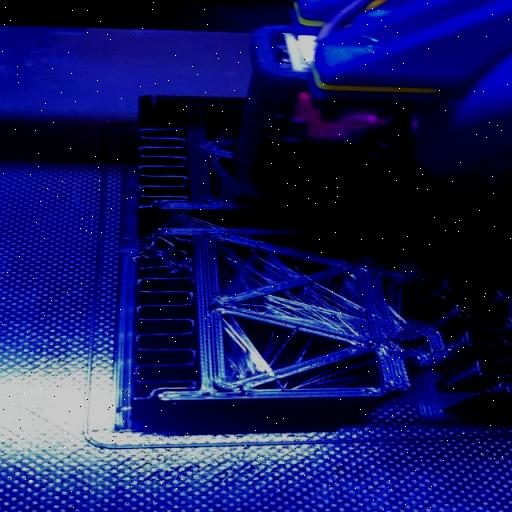stringing: (226, 315, 281, 380), (294, 359, 373, 387), (253, 332, 299, 369), (272, 296, 334, 320), (228, 252, 266, 286), (305, 286, 343, 316), (255, 258, 286, 280), (330, 316, 366, 334), (338, 296, 360, 314)
